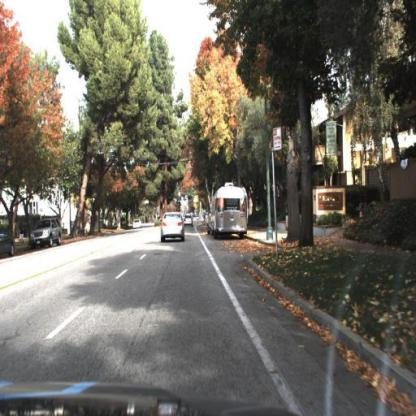car: (155, 203, 193, 247), (27, 212, 66, 253), (2, 224, 18, 265), (182, 209, 196, 230), (132, 215, 145, 235)
truck: (202, 172, 254, 248)
